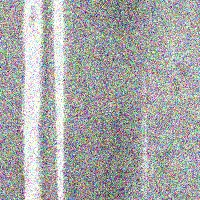scratches: (22, 1, 46, 199), (52, 1, 68, 199), (138, 73, 151, 198)
